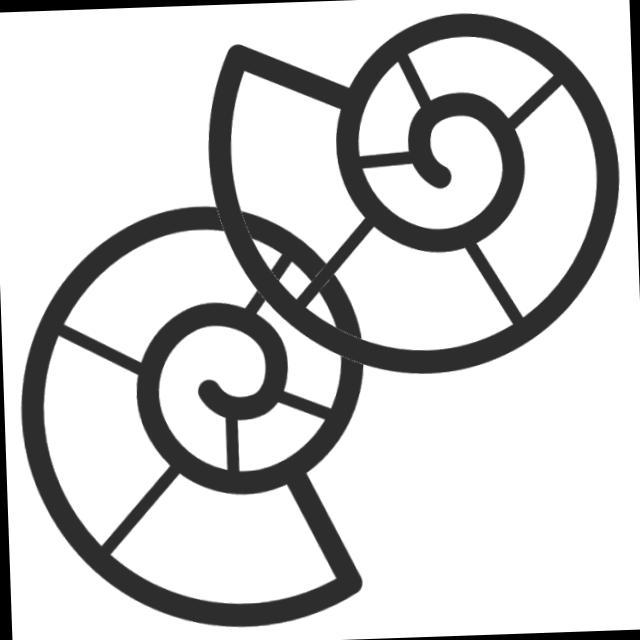fossil: (194, 1, 635, 391), (8, 196, 382, 640)
